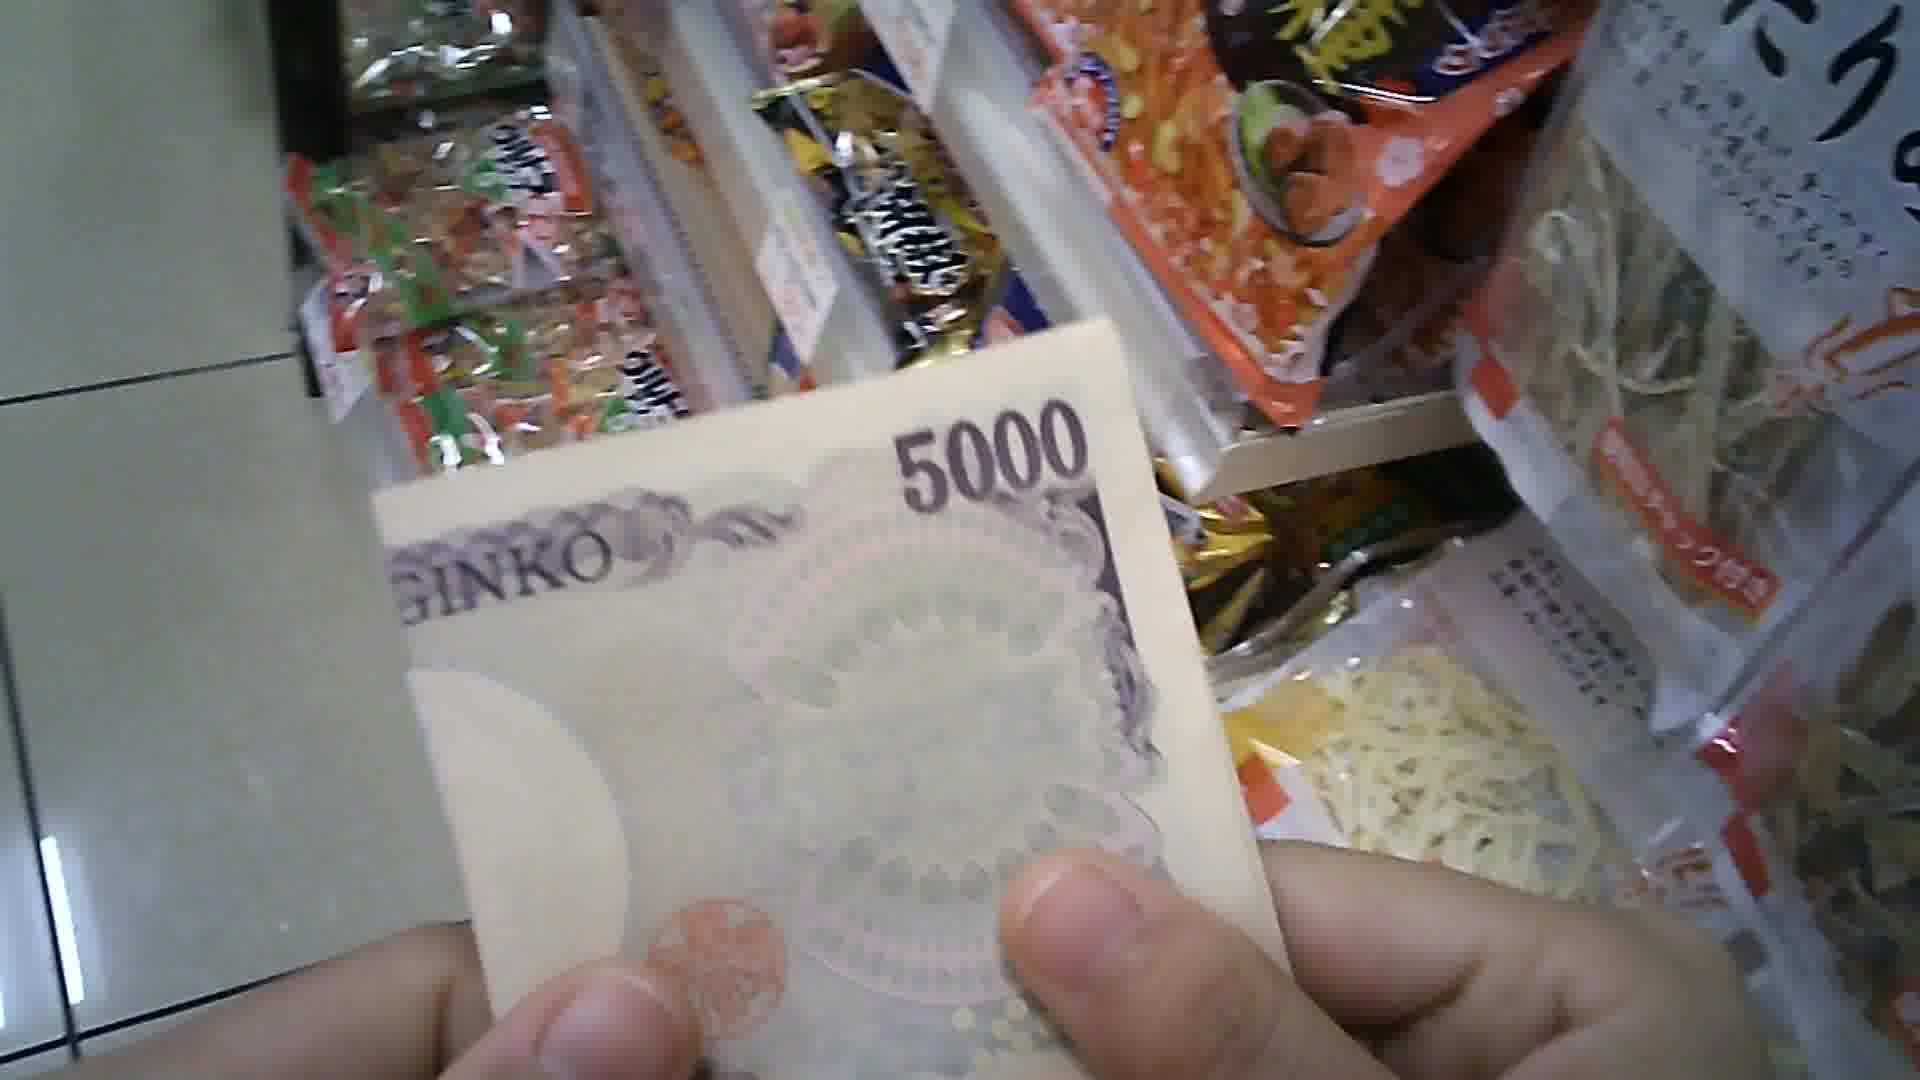5,000 Yen: (373, 324, 1352, 1062)
